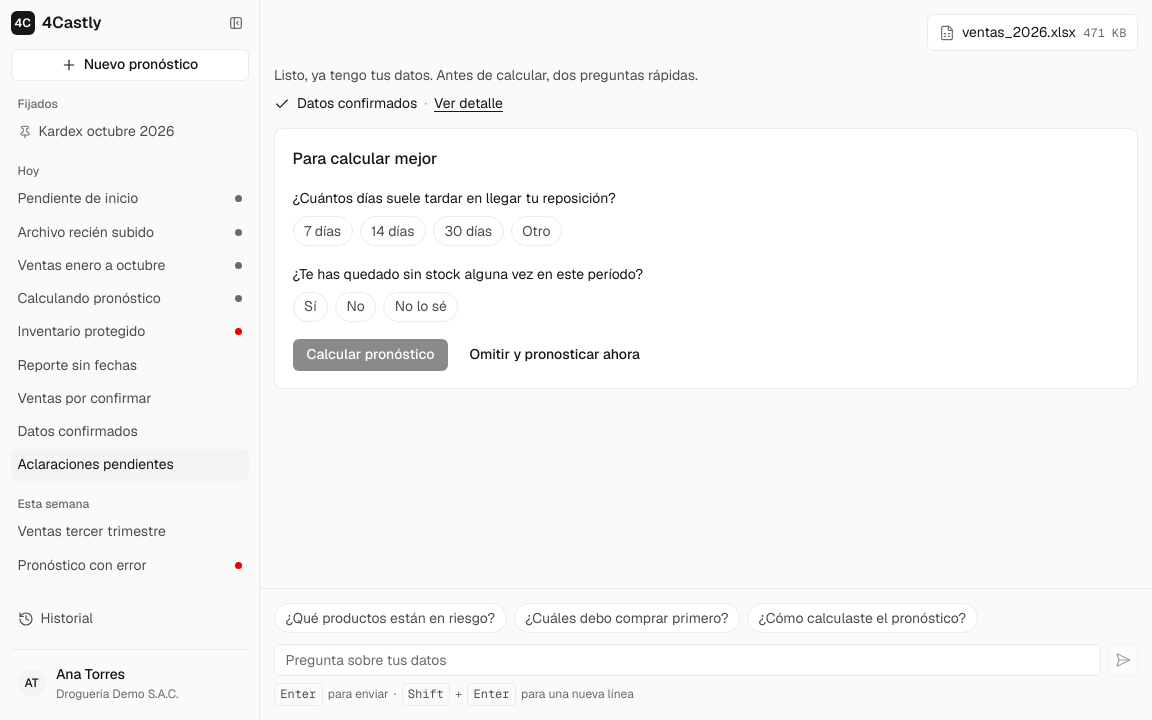
Test: clarification (05) › needs every shown answer before it can calculate, then starts the forecast job
Expected: the button "Calcular pronóstico" is disabled, left=292, top=339, right=448, bottom=370
What coordinates should you click on to do the following:
click the button "14 días"
I would click on:
 (393, 231)
Its box is left=360, top=216, right=426, bottom=246.
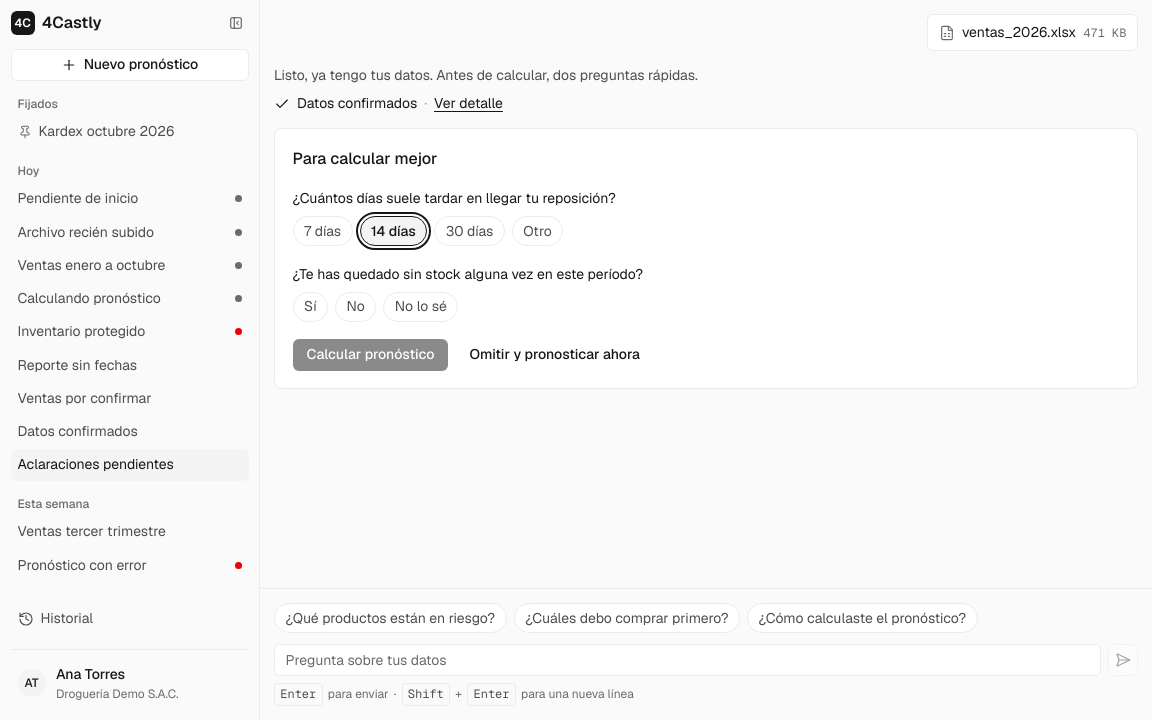
Expected: the button "Calcular pronóstico" is disabled, left=292, top=339, right=448, bottom=370
What coordinates should you click on to do the following:
click the button "No"
I would click on:
 (356, 306)
Its box is left=335, top=292, right=376, bottom=322.
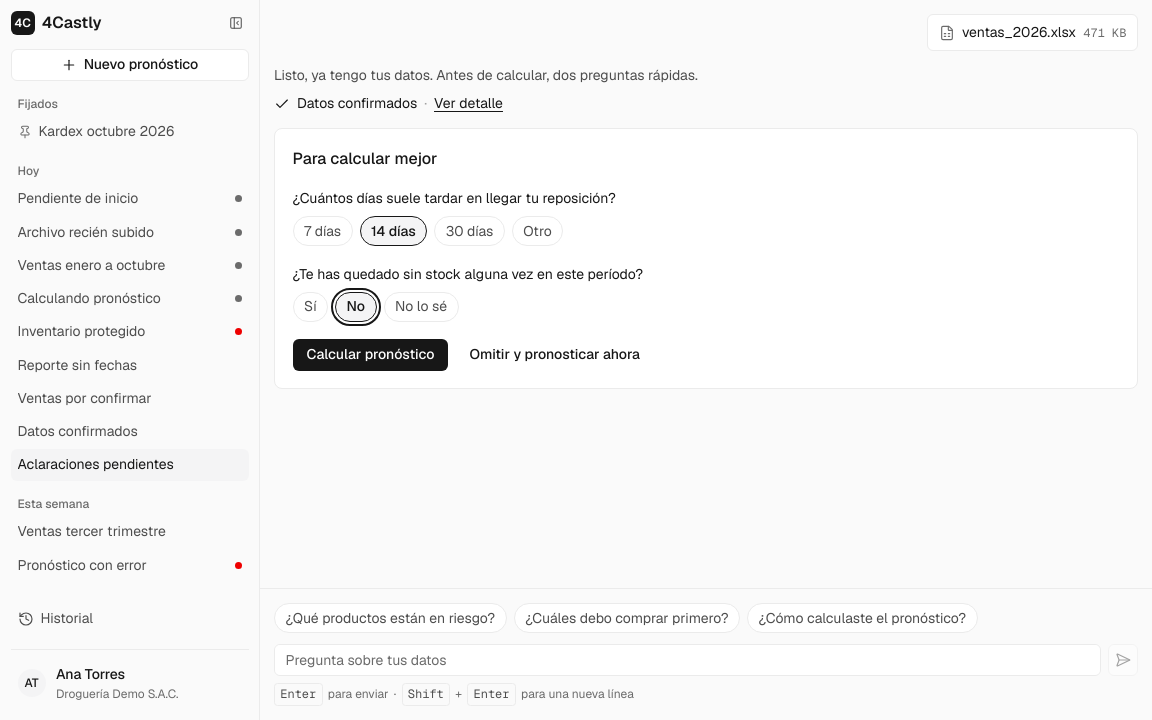
Expected: the button "Calcular pronóstico" is enabled
What coordinates should you click on to do the following:
click the button "Calcular pronóstico"
I would click on:
 (370, 355)
Its box is left=292, top=339, right=448, bottom=370.
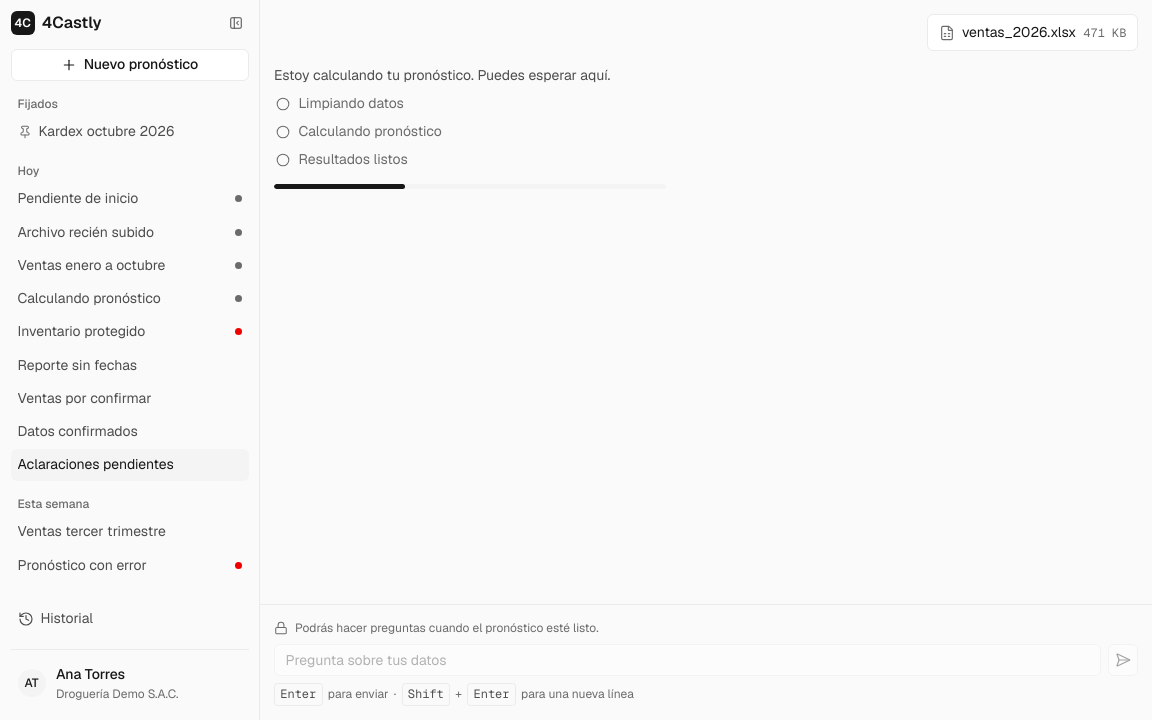
Expected: the progress indicator named "Avance del cálculo" is shown, left=274, top=184, right=666, bottom=189
